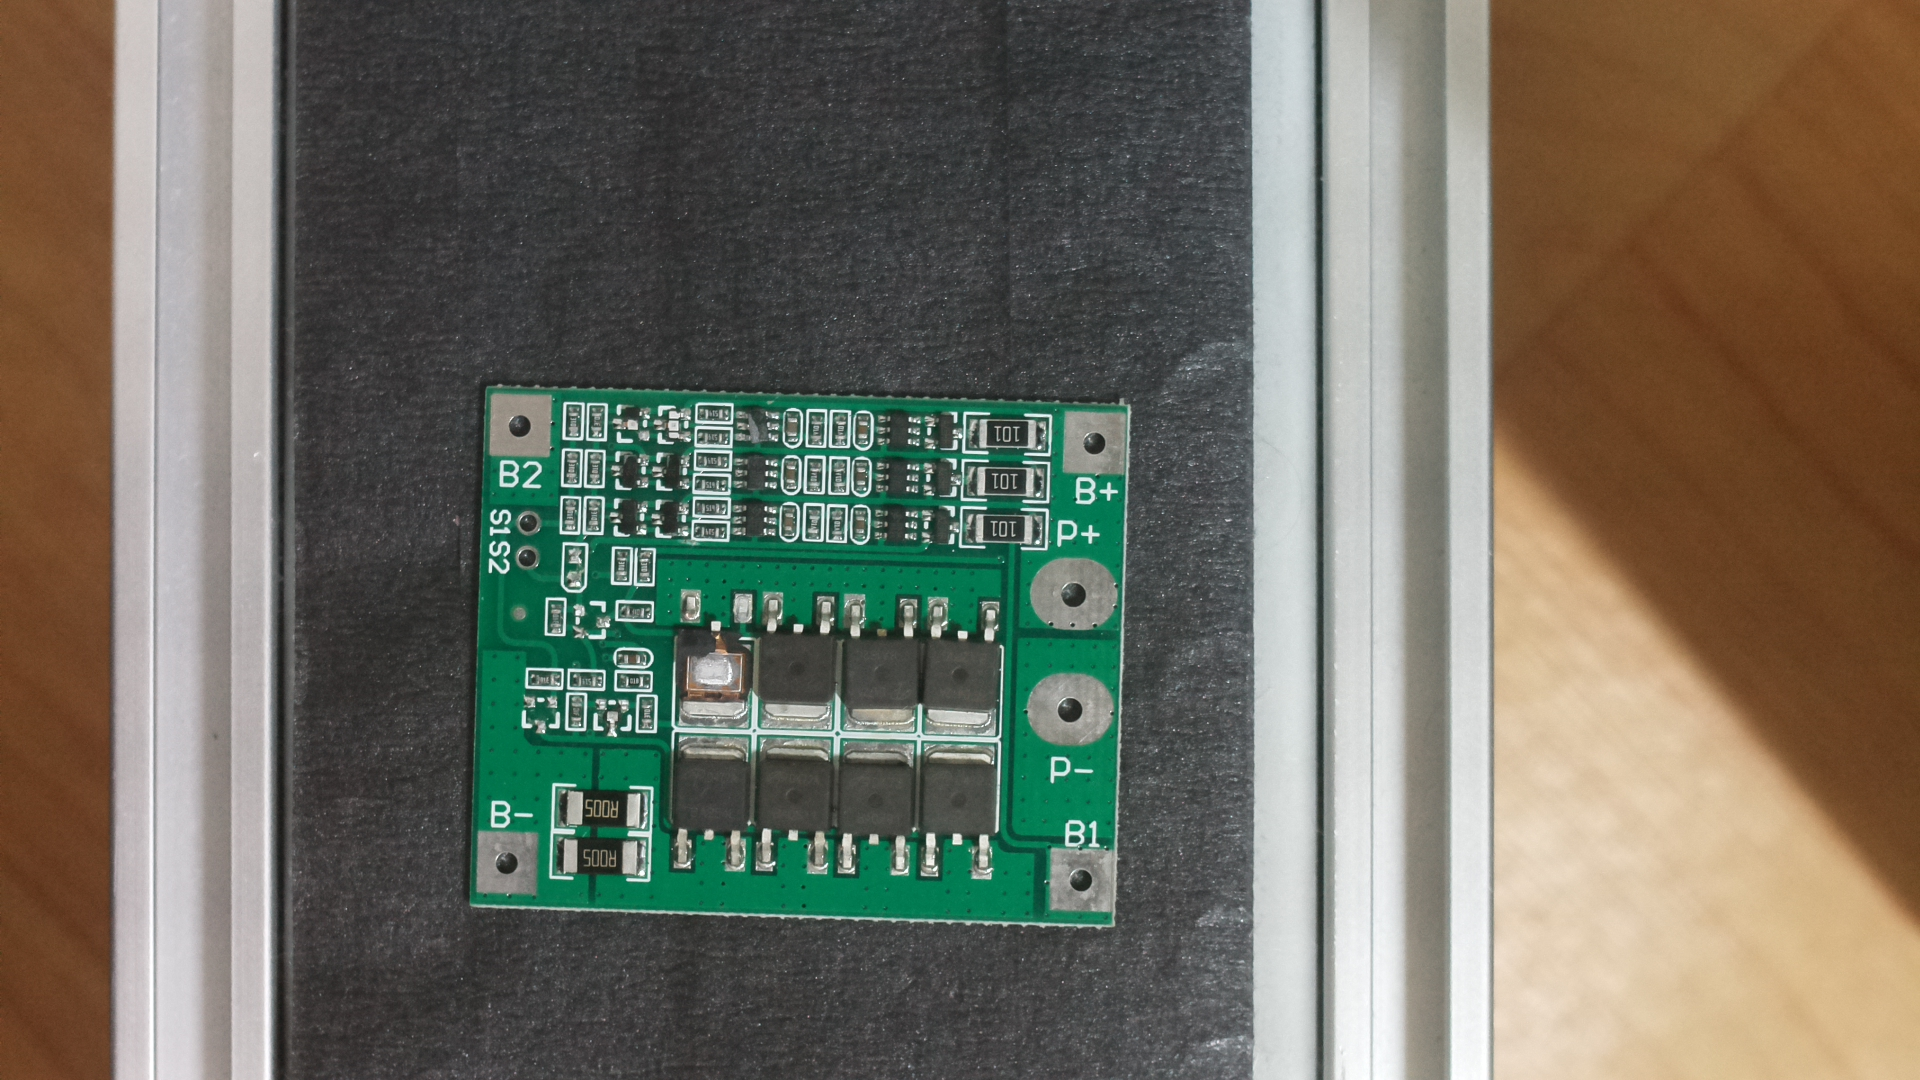C_Missing_part: (459, 348, 1143, 959)
